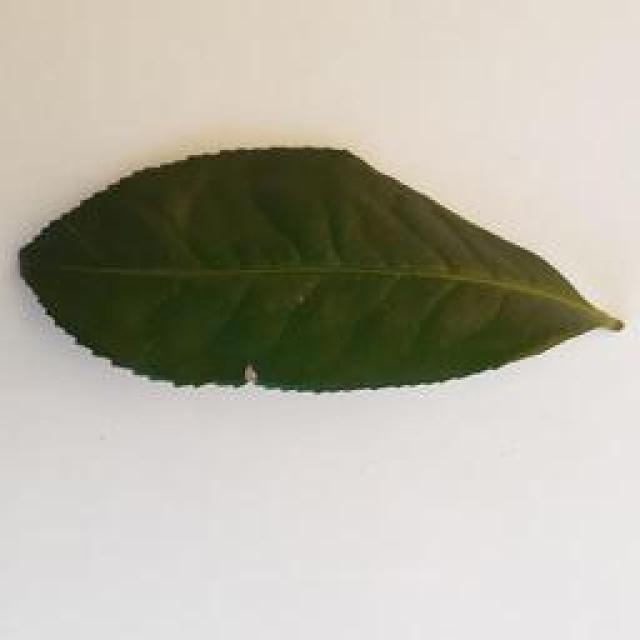Healthy: (0, 123, 633, 420)
